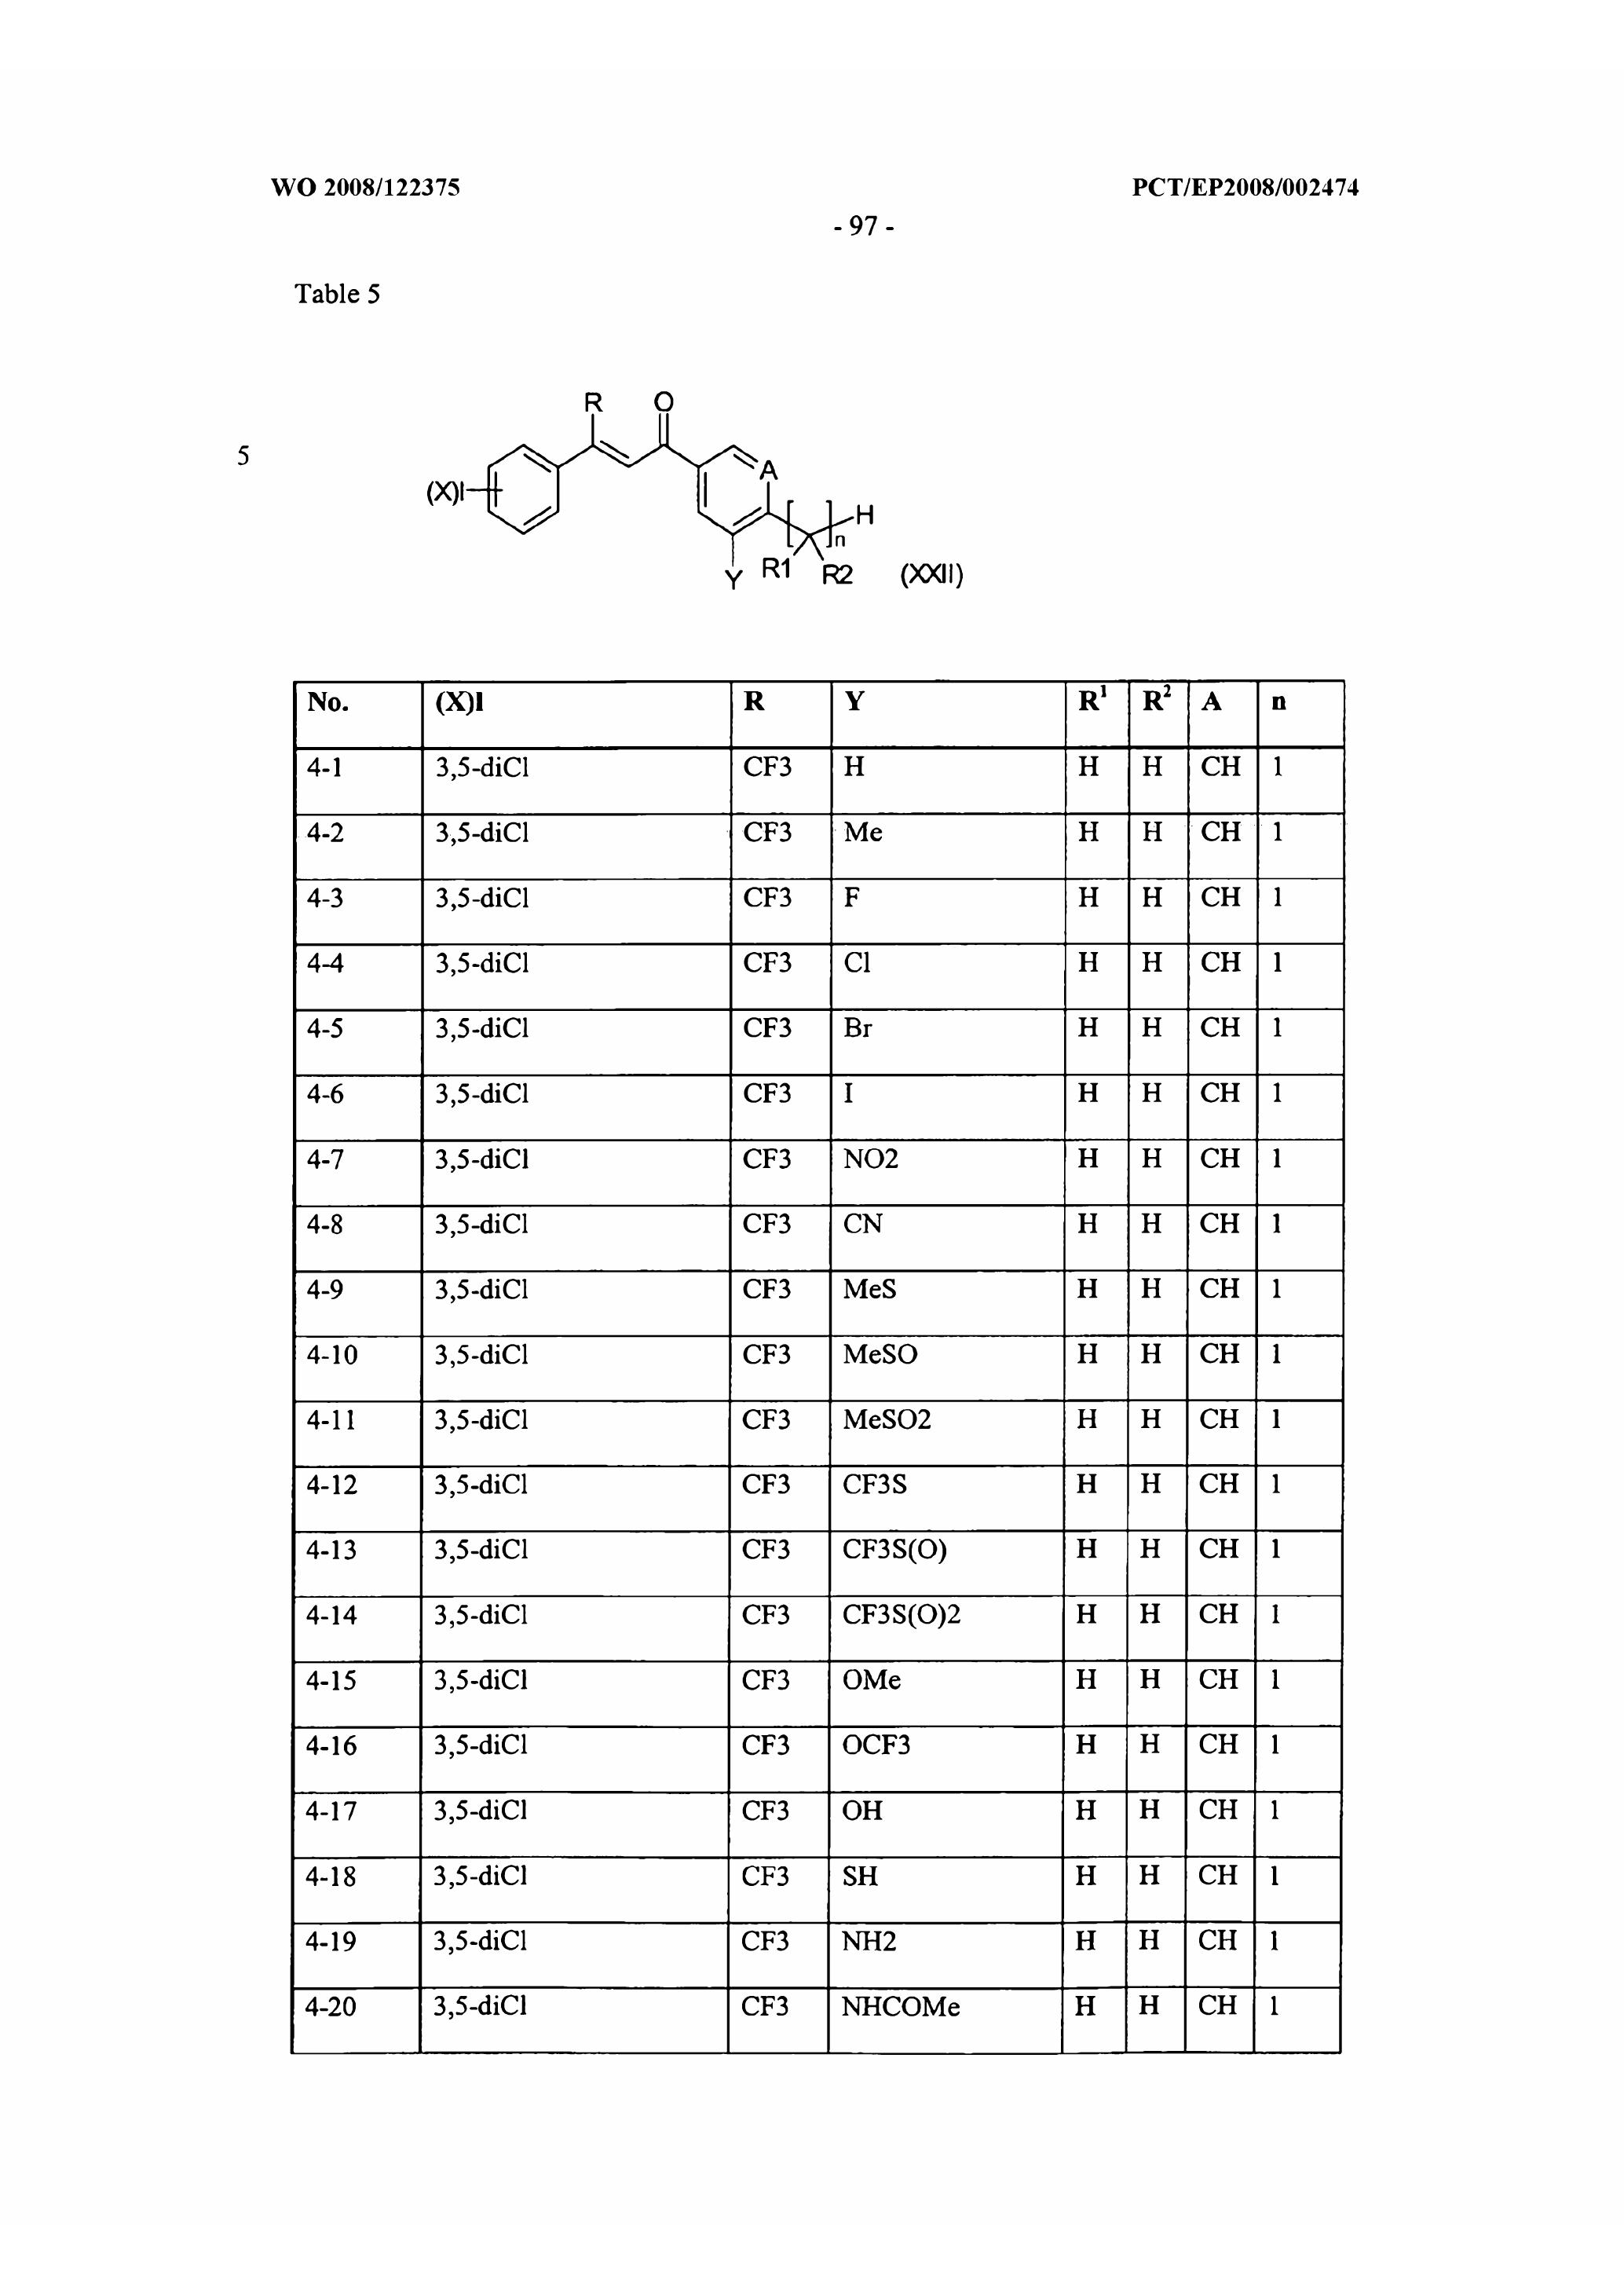markush-structures: (399, 367, 891, 628)
